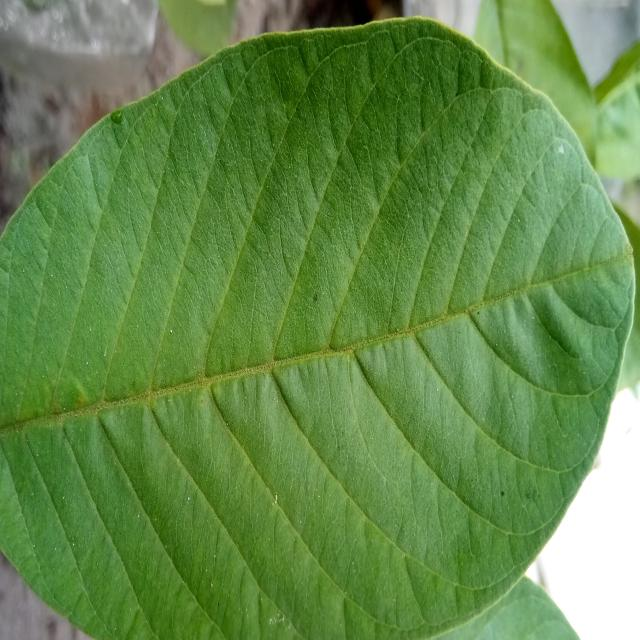Disease Free: (0, 19, 635, 637)
